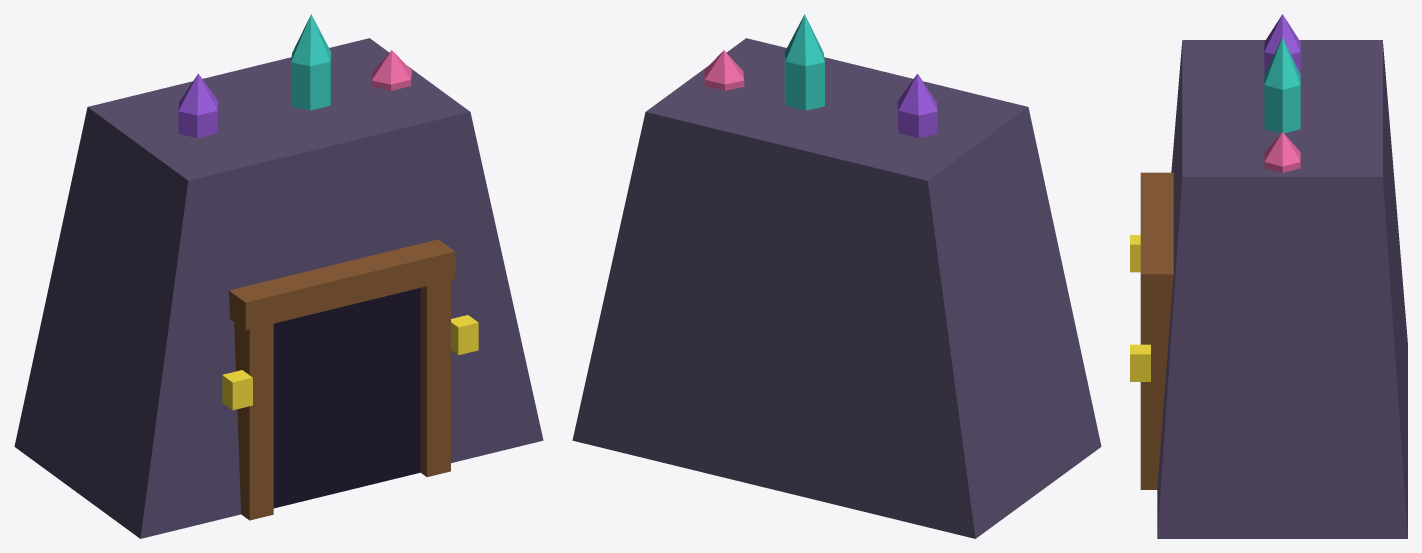
The model's file is env_r12_mine_entrance.glb.
3 views of the same model, side by side, from view 1: azimuth 30°, elevation 25°; view 2: azimuth 150°, elevation 25°; view 3: azimuth 270°, elevation 25° (orthographic).
Visible parts, largest first — view 1: env_r12_mine_entrance; view 2: env_r12_mine_entrance; view 3: env_r12_mine_entrance.
Boxes of the visible parts, box(x1,y1,x2,y2) form: env_r12_mine_entrance: box(14, 14, 543, 538); env_r12_mine_entrance: box(572, 14, 1101, 538); env_r12_mine_entrance: box(1130, 14, 1407, 538).
Bounding box in the file's own units: 5 × 5 × 3.
1 material, 1 textured.
